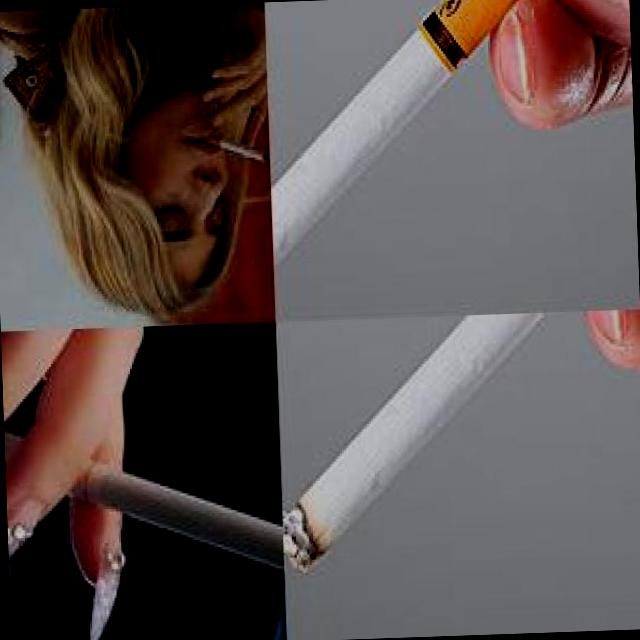smoke: (264, 0, 623, 322), (275, 311, 640, 579), (4, 416, 282, 598), (207, 131, 270, 165)
